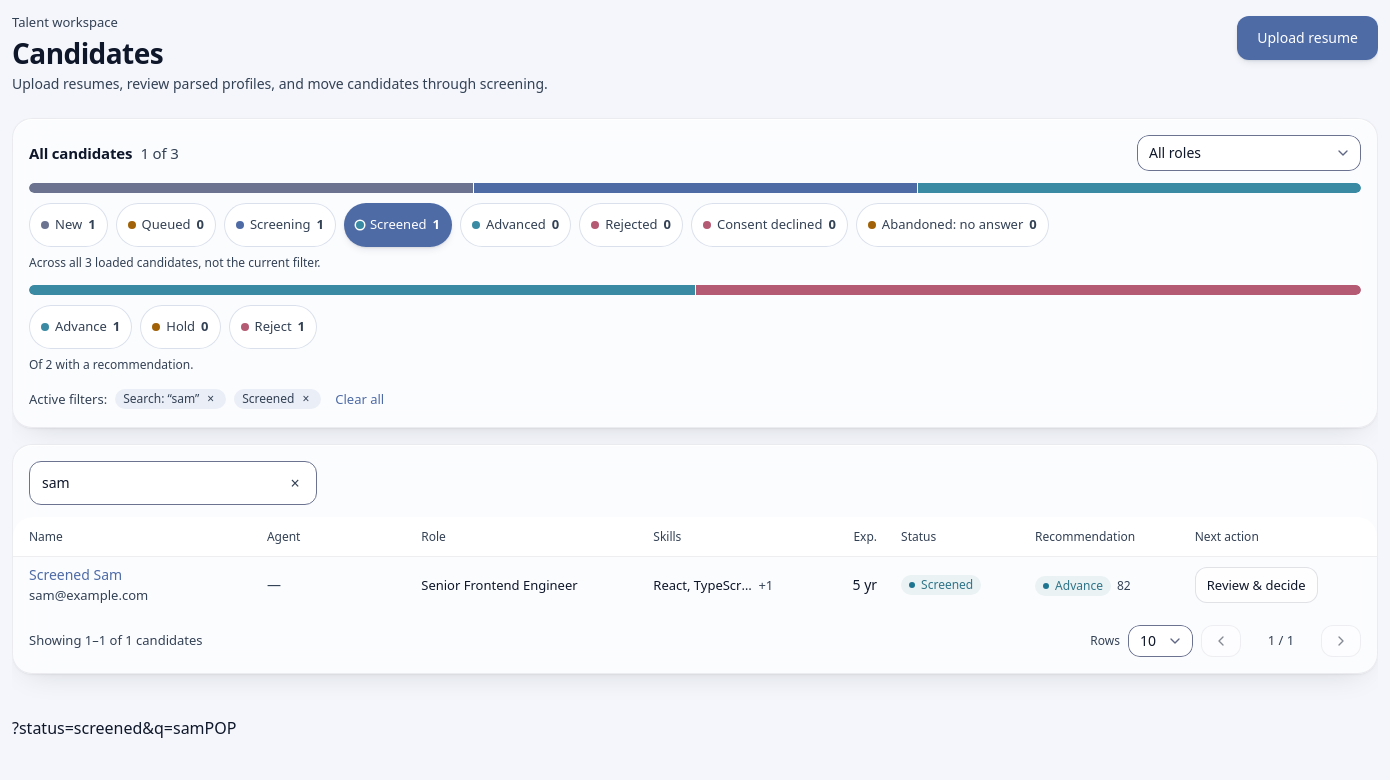
CandidatesPage search › clears from "Clear all", input included
The width and height of the screenshot is (1390, 780).
Expected: the link "Screened Sam" is shown, [29,565,122,584]
Click the button "Clear all" at (360, 399), box [329,387,390,411]
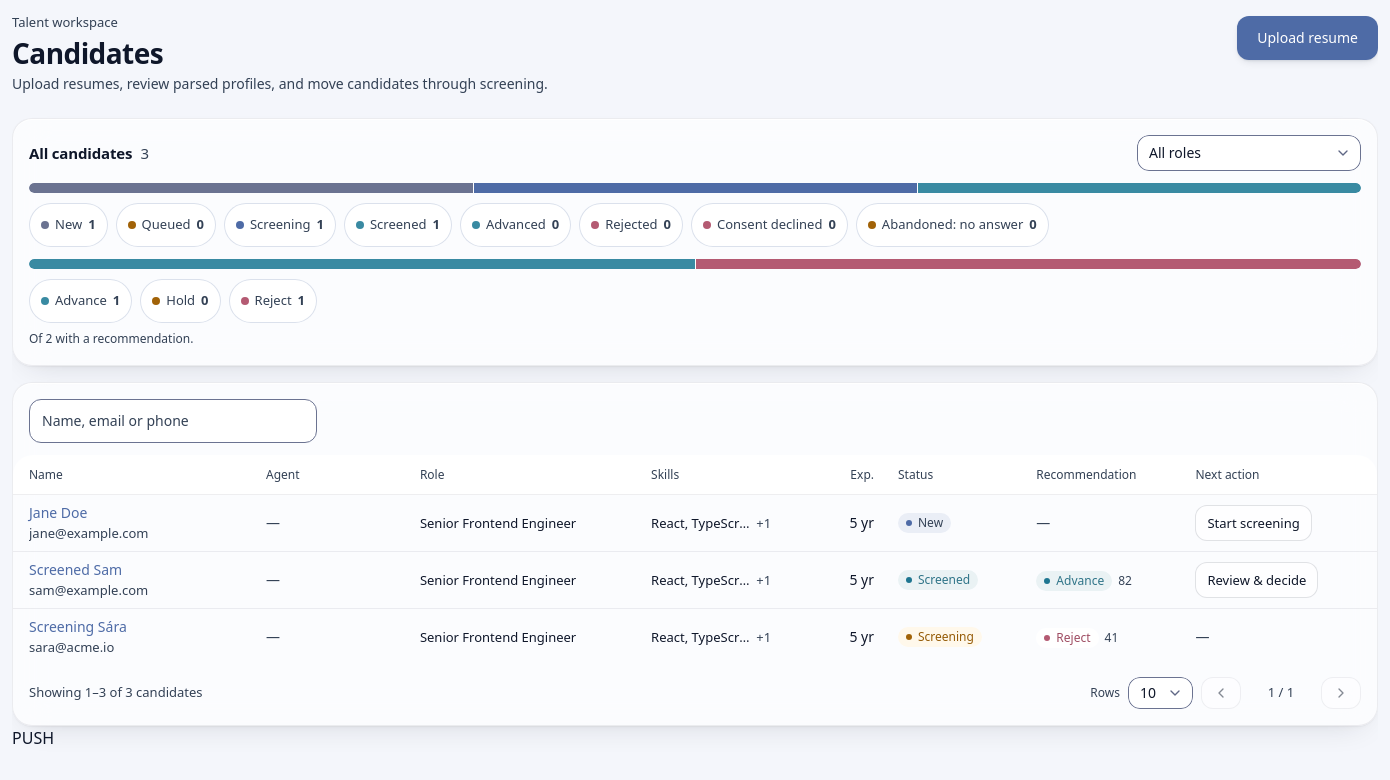
Now the search field named "Search candidates" is empty, box [29,399,317,443]
